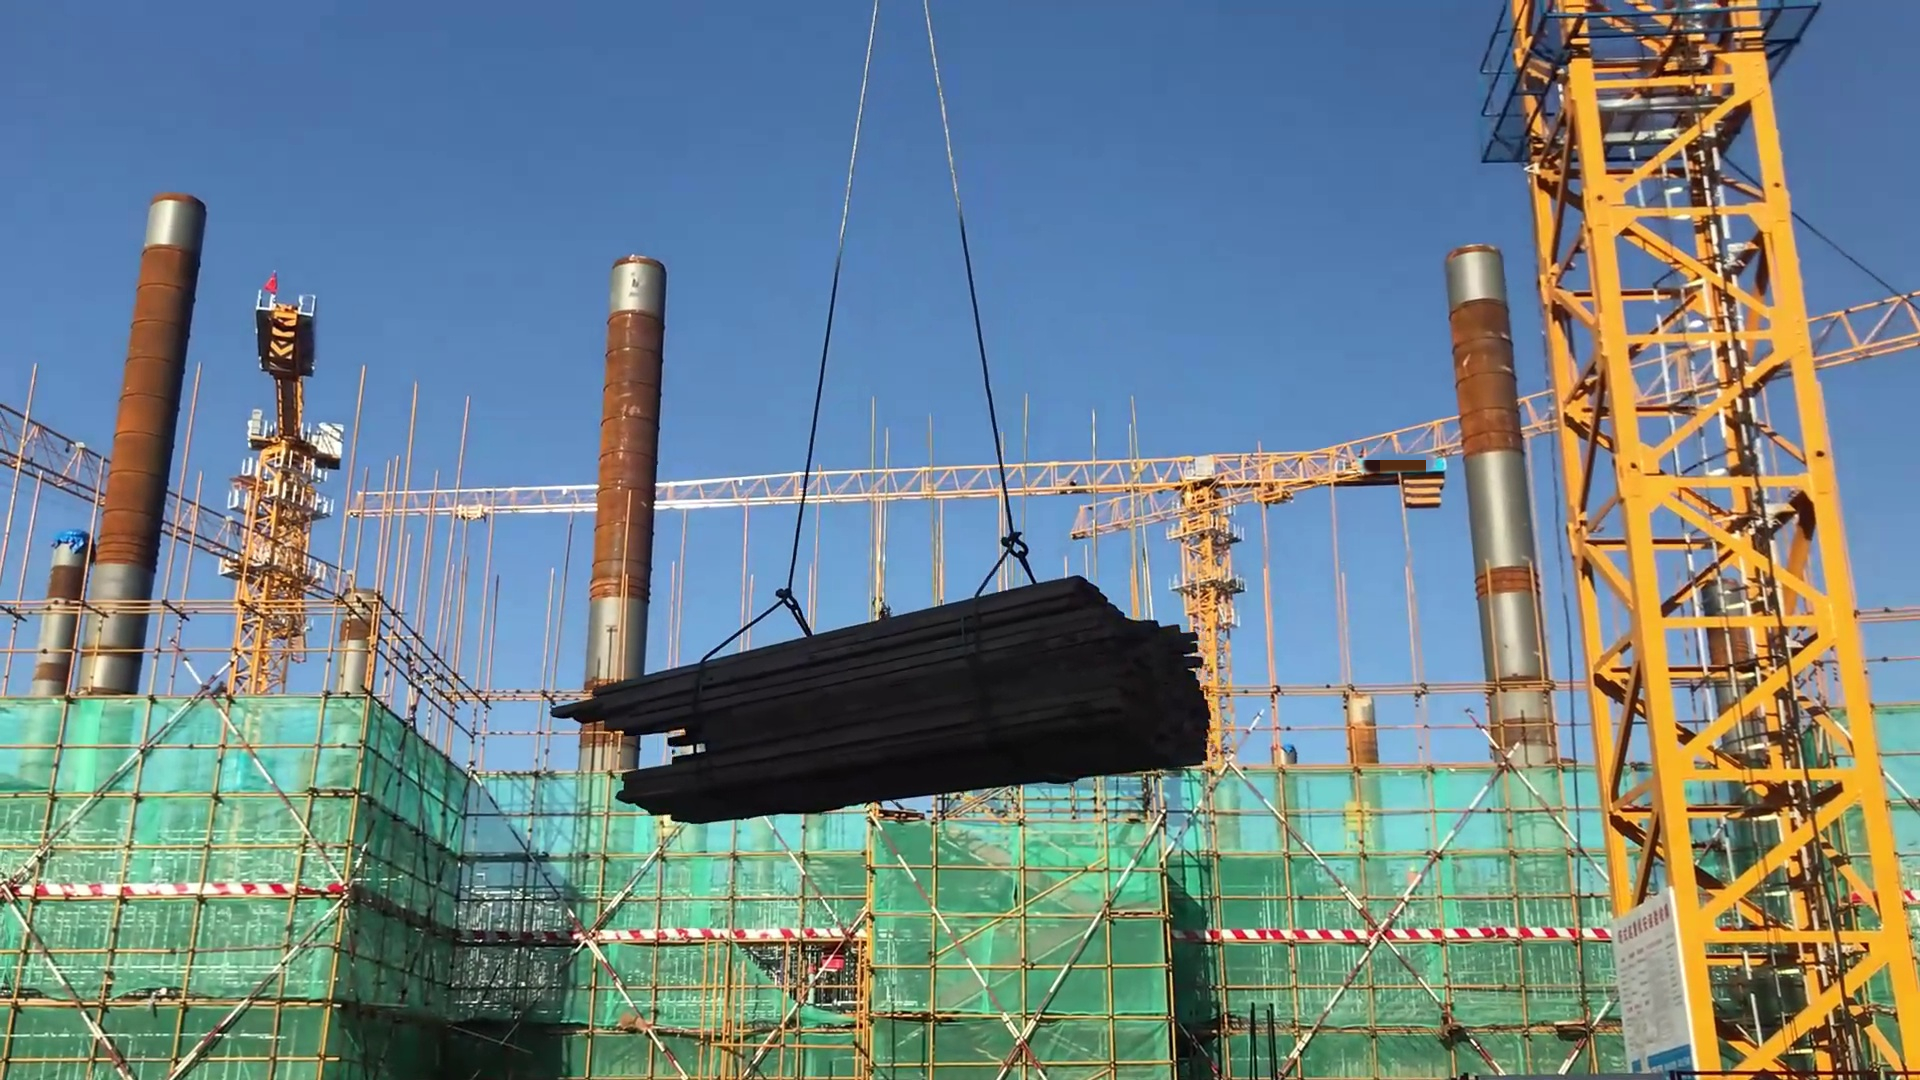person: (869, 595, 891, 619)
wood: (547, 572, 1211, 829)
